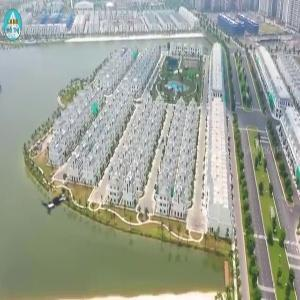drone: (12, 153, 110, 251)
